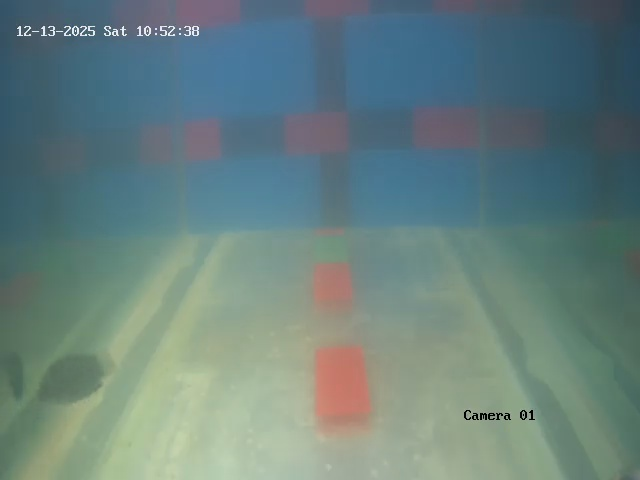fish: (37, 335, 111, 418)
